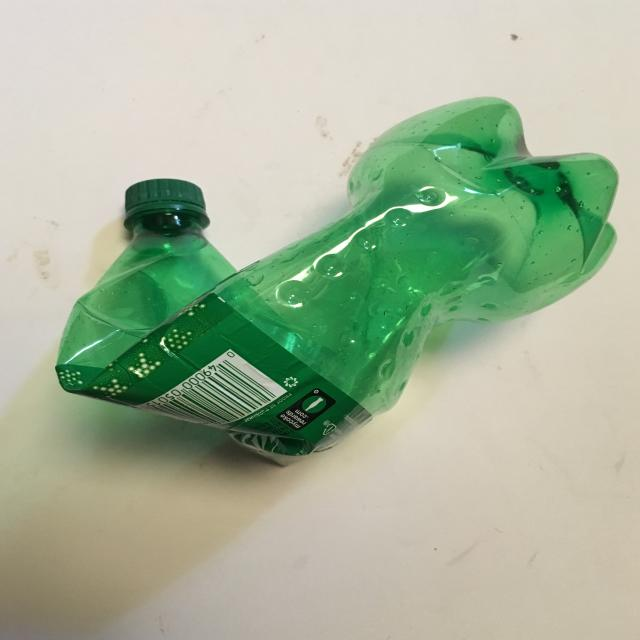plastic: (56, 95, 619, 467)
